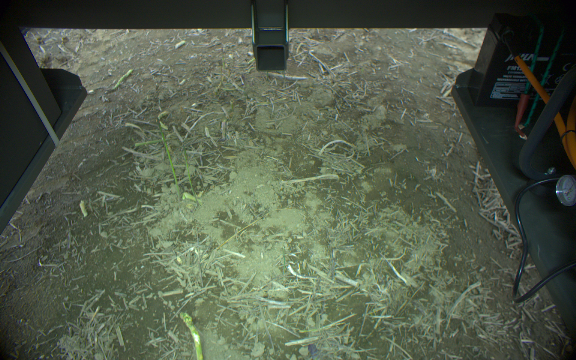aspa: (155, 124, 182, 204), (177, 311, 207, 360), (179, 149, 201, 205)
